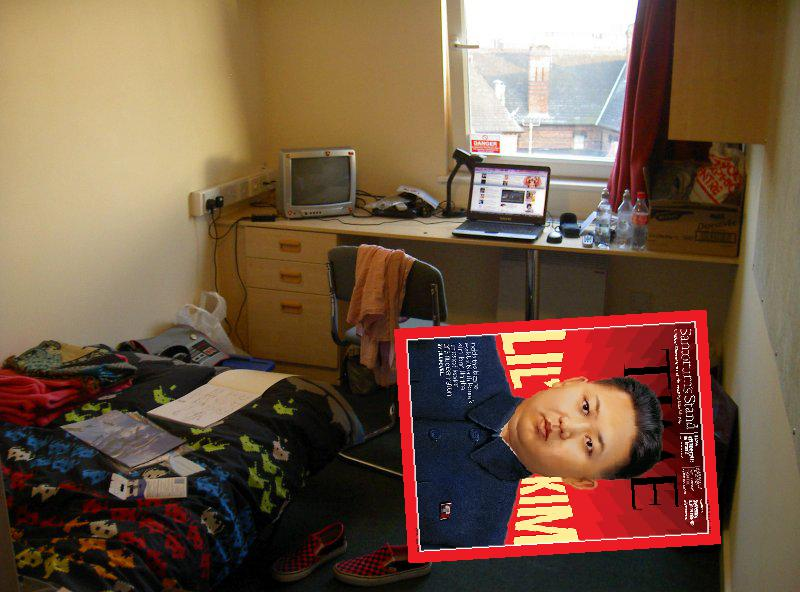times: (392, 303, 720, 575)
